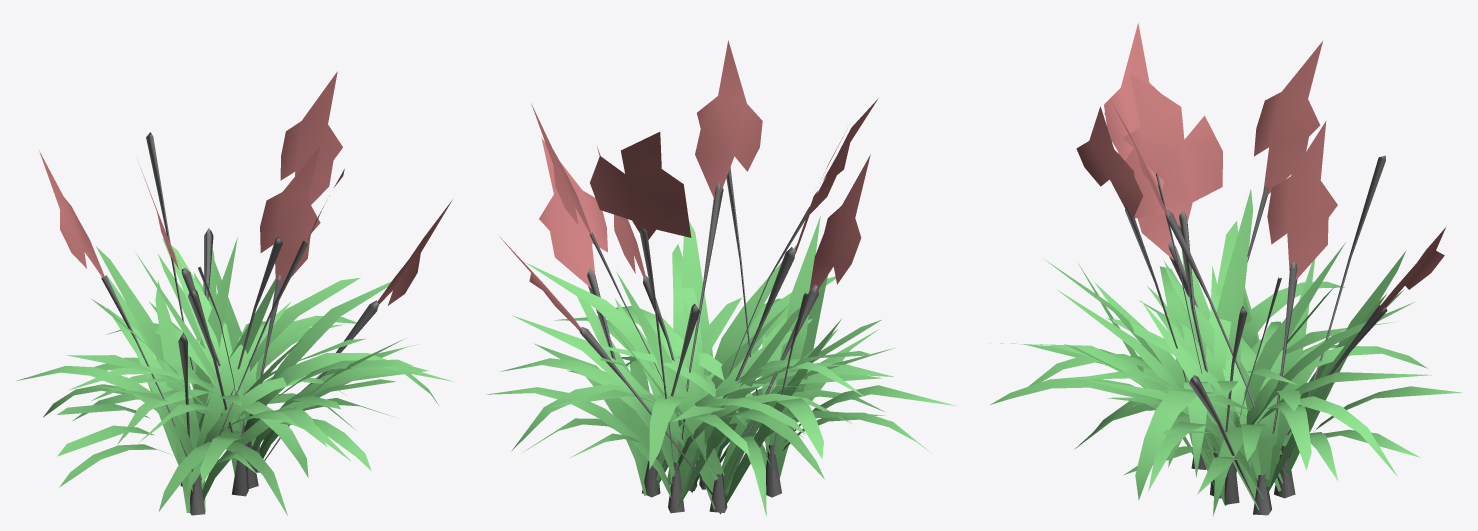
Rendered from SM_flower_jungle_medium_A.gltf.
The picture shows the model from 3 angles, left to right: view 1: azimuth 30°, elevation 25°; view 2: azimuth 150°, elevation 25°; view 3: azimuth 270°, elevation 25°; orthographic projection. The views are drawn at different scales.
Visible parts, largest first — view 1: SM_flower_jungle_medium_A; view 2: SM_flower_jungle_medium_A; view 3: SM_flower_jungle_medium_A.
Boxes of the visible parts, x1,y1,x2,y2 form: SM_flower_jungle_medium_A: (16, 71, 454, 515); SM_flower_jungle_medium_A: (486, 40, 955, 516); SM_flower_jungle_medium_A: (990, 23, 1461, 516).
Size of the model in its own units: 0.7249 by 0.7371 by 0.6984.
